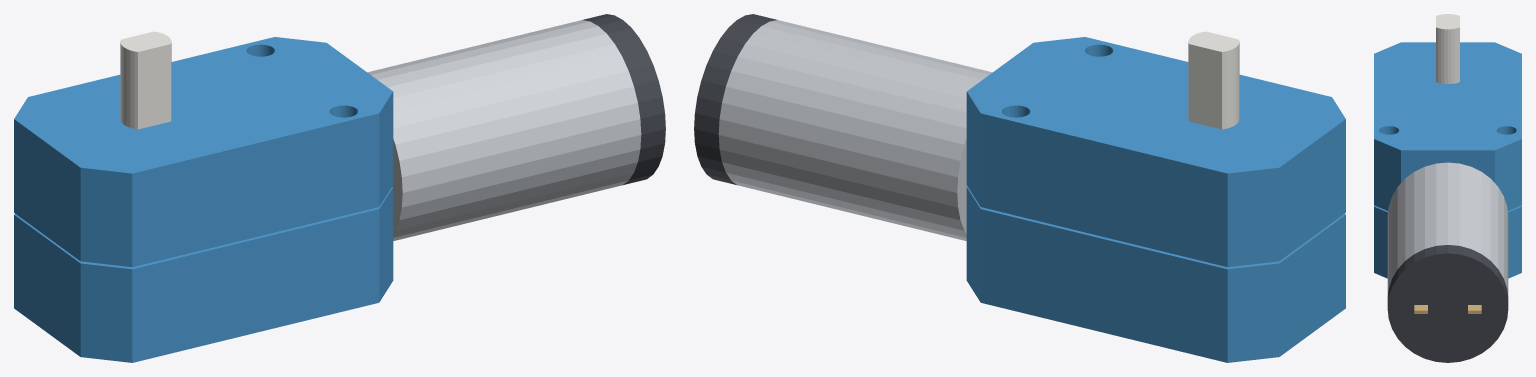
The model's file is model_display.glb.
3 renders of one model, left to right at view 1: azimuth 30°, elevation 25°; view 2: azimuth 150°, elevation 25°; view 3: azimuth 270°, elevation 25°, orthographic. The views are drawn at different scales.
Visible parts, largest first — view 1: housing_half_1, motor_can, housing_half_0, output_shaft, motor_end_cap; view 2: housing_half_1, motor_can, housing_half_0, output_shaft, motor_end_cap; view 3: housing_half_1, motor_end_cap, motor_can, housing_half_0, output_shaft.
Boxes of the visible parts, x1=… form: housing_half_1: x1=14, y1=37, x2=393, y2=267; motor_can: x1=367, y1=20, x2=641, y2=240; housing_half_0: x1=14, y1=186, x2=393, y2=362; output_shaft: x1=120, y1=31, x2=171, y2=129; motor_end_cap: x1=583, y1=14, x2=665, y2=184; housing_half_1: x1=966, y1=37, x2=1345, y2=267; motor_can: x1=718, y1=20, x2=992, y2=240; housing_half_0: x1=966, y1=186, x2=1345, y2=362; output_shaft: x1=1188, y1=31, x2=1239, y2=129; motor_end_cap: x1=694, y1=14, x2=776, y2=184; housing_half_1: x1=1374, y1=42, x2=1521, y2=210; motor_end_cap: x1=1387, y1=245, x2=1508, y2=362; motor_can: x1=1387, y1=162, x2=1508, y2=296; housing_half_0: x1=1374, y1=205, x2=1521, y2=278; output_shaft: x1=1436, y1=14, x2=1459, y2=83.
Size of the model in its own units: 0.072 by 0.031 by 0.022.
